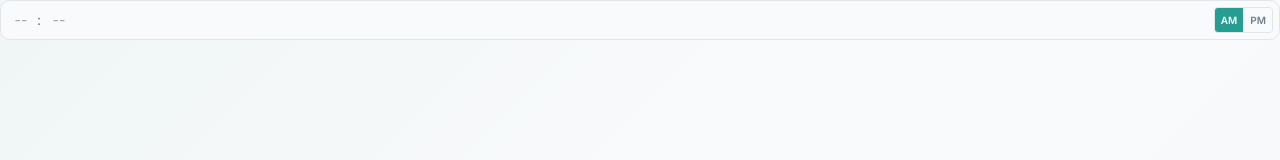
Test: TimePicker12h - the side of noon survives › does not invent a time when AM or PM is pressed on an empty box
Click the button "PM". click: coordinates (1258, 20)
box: [1243,8,1272,32]
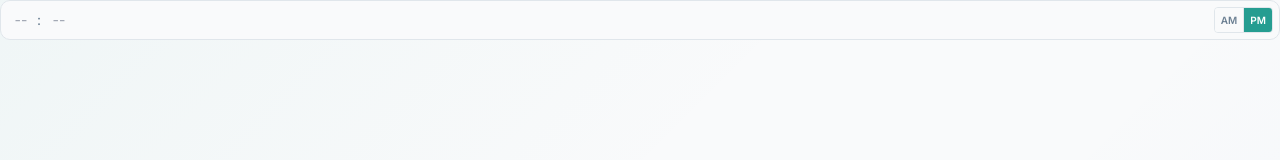
Now the button "PM" has class "bg-primary", box [1243,8,1272,32]
